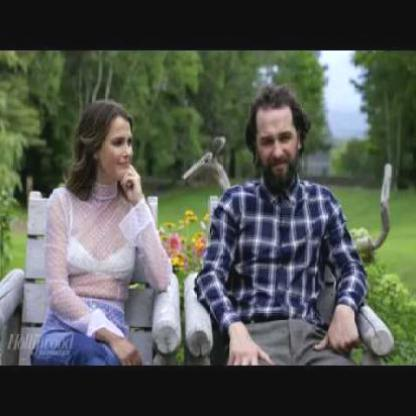person: (205, 91, 365, 368), (40, 101, 153, 370)
